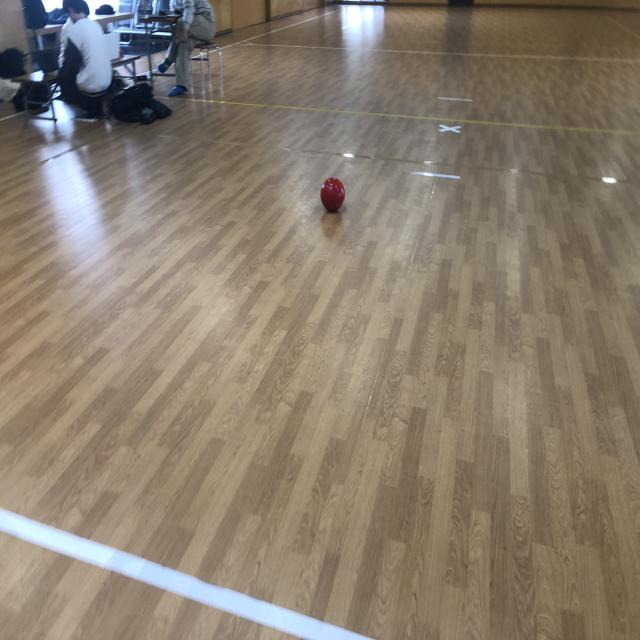red_ball: (320, 178, 345, 212)
